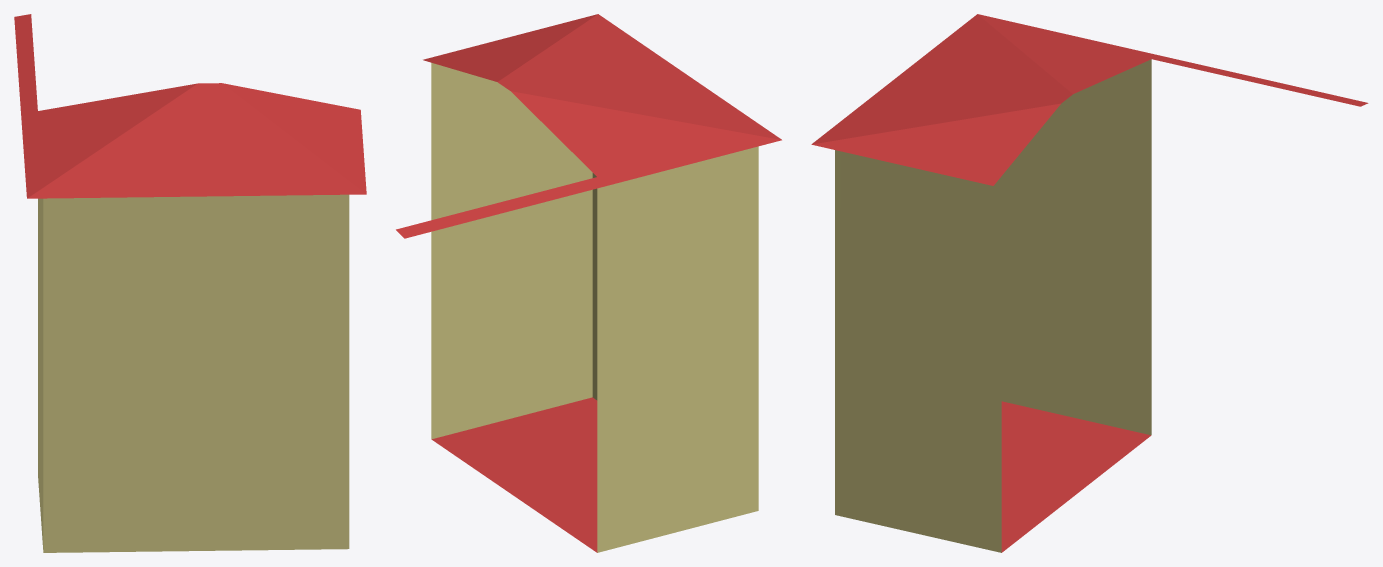
3 views of the same model, side by side, from view 1: azimuth 30°, elevation 25°; view 2: azimuth 150°, elevation 25°; view 3: azimuth 270°, elevation 25° (orthographic). The views are drawn at different scales.
Size of the model in its own units: 5.82 by 7.97 by 6.35.
